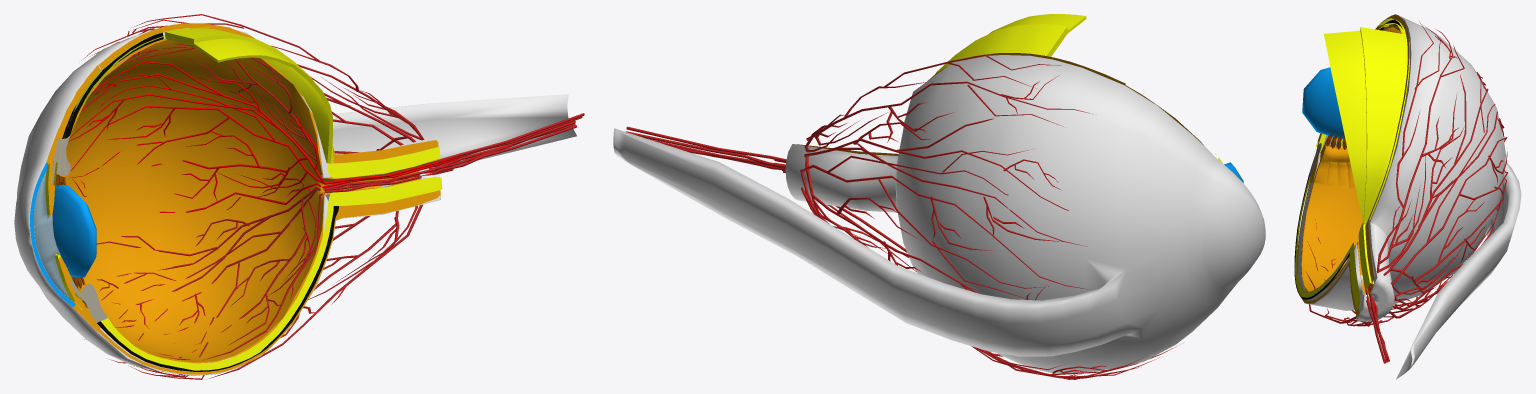
Rendered from eyes_anatomy.glb.
3 views of the same model, side by side, from view 1: azimuth 30°, elevation 25°; view 2: azimuth 150°, elevation 25°; view 3: azimuth 270°, elevation 25° (orthographic). The views are drawn at different scales.
Visible parts, largest first — view 1: Object06_orange_0, eye ball_x-section_whiteEyes_0, muscle_edge_yellow_0, viens out001_blinn2_0, inside viens002_red_0, viens_inside 003_blinn2_0, lense_in_blue_0, Object011_orange_0, Object007_orange_0, lense lequid_asff_0, viens_inside 004_blinn2_0, Object013_black_0 (+5 smaller); view 2: eye ball_x-section_whiteEyes_0, viens out001_blinn2_0, muscle_edge_yellow_0, Object007_orange_0; view 3: eye ball_x-section_whiteEyes_0, muscle_edge_yellow_0, viens out001_blinn2_0, Object06_orange_0, lense_in_blue_0, Object007_orange_0, Object011_orange_0, Object013_black_0, polySurface20_brown_0.
Part boxes in pixels (left/top/right/bottom): Object06_orange_0: left=53, top=38, right=439, bottom=363; eye ball_x-section_whiteEyes_0: left=14, top=25, right=576, bottom=375; muscle_edge_yellow_0: left=45, top=28, right=442, bottom=370; viens out001_blinn2_0: left=81, top=14, right=584, bottom=379; inside viens002_red_0: left=62, top=61, right=459, bottom=212; viens_inside 003_blinn2_0: left=96, top=166, right=453, bottom=359; lense_in_blue_0: left=52, top=185, right=96, bottom=277; Object011_orange_0: left=73, top=190, right=440, bottom=374; Object007_orange_0: left=99, top=23, right=438, bottom=163; lense lequid_asff_0: left=34, top=171, right=70, bottom=299; viens_inside 004_blinn2_0: left=121, top=43, right=316, bottom=161; Object013_black_0: left=97, top=206, right=338, bottom=371; eye ball_x-section_whiteEyes_0: left=613, top=55, right=1265, bottom=373; viens out001_blinn2_0: left=626, top=54, right=1176, bottom=379; muscle_edge_yellow_0: left=935, top=14, right=1222, bottom=163; Object007_orange_0: left=797, top=53, right=1125, bottom=155; eye ball_x-section_whiteEyes_0: left=1297, top=14, right=1521, bottom=379; muscle_edge_yellow_0: left=1295, top=18, right=1409, bottom=311; viens out001_blinn2_0: left=1309, top=21, right=1507, bottom=363; Object06_orange_0: left=1301, top=25, right=1401, bottom=309; lense_in_blue_0: left=1302, top=67, right=1344, bottom=139; Object007_orange_0: left=1365, top=14, right=1409, bottom=282; Object011_orange_0: left=1297, top=156, right=1359, bottom=316; Object013_black_0: left=1294, top=174, right=1349, bottom=299; polySurface20_brown_0: left=1325, top=133, right=1346, bottom=149.
Bounding box in the file's own units: 351 × 185 × 137.
